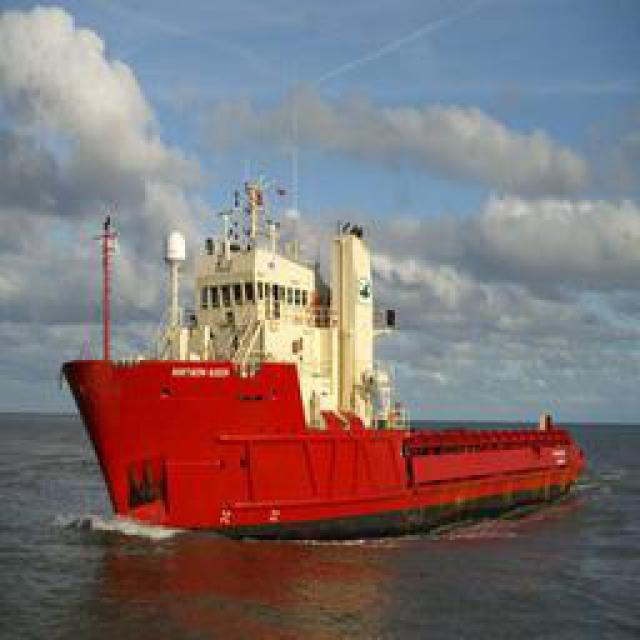Ship: (70, 259, 585, 532)
